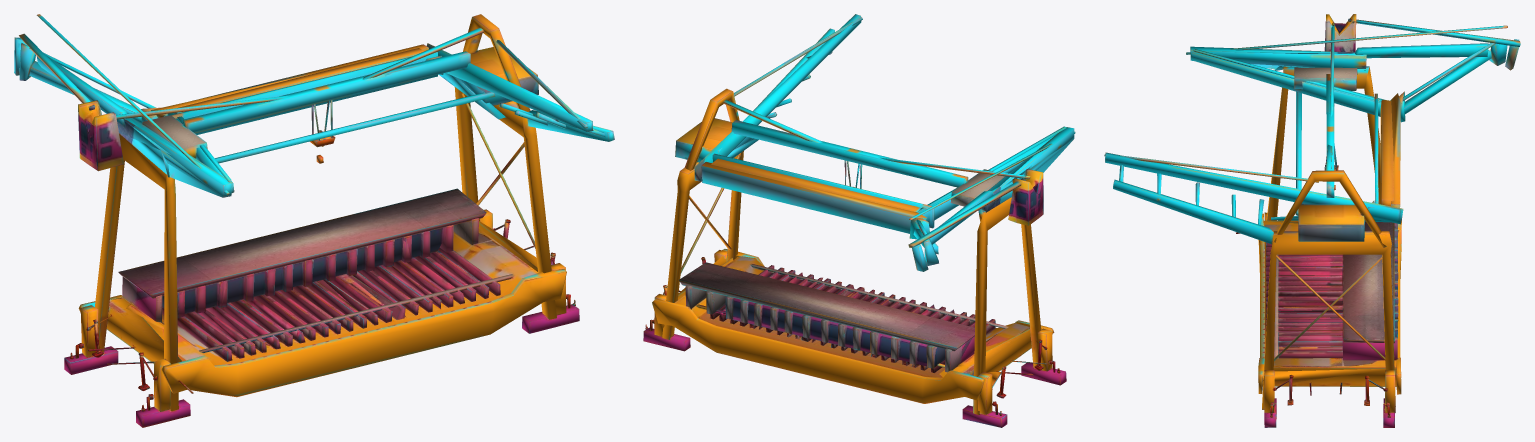
File: crane.glb
3 renders of one model, left to right at view 1: azimuth 30°, elevation 25°; view 2: azimuth 150°, elevation 25°; view 3: azimuth 270°, elevation 25°, orthographic. The views are drawn at different scales.
Bounding box in the file's own units: 1 × 0.6333 × 0.9817.
Materials: 1 (1 with a texture image).
